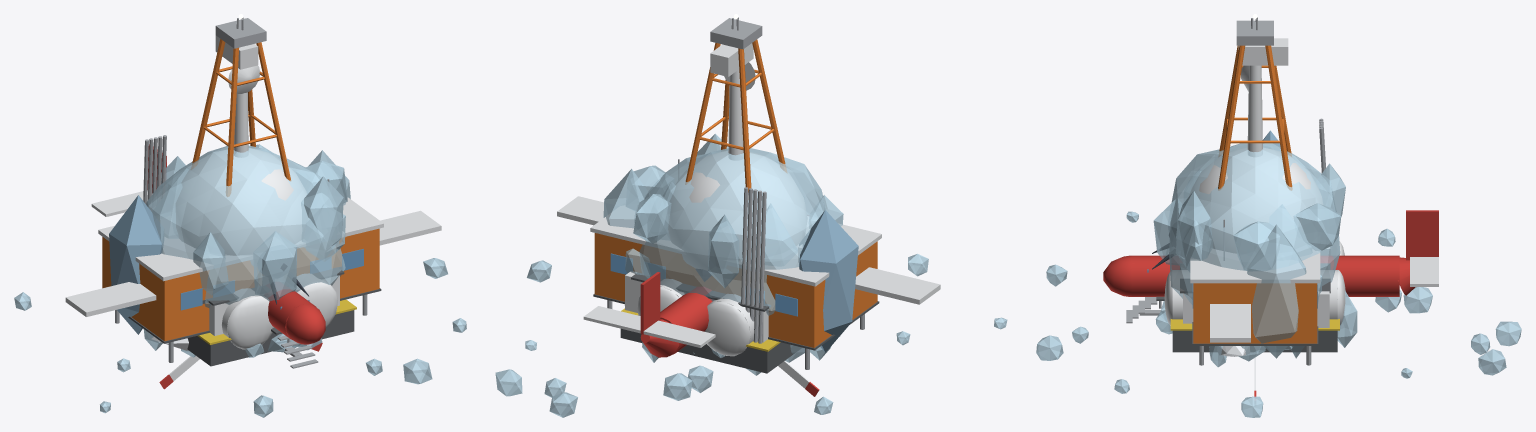
The model's file is polar.glb.
3 renders of one model, left to right at view 1: azimuth 30°, elevation 25°; view 2: azimuth 150°, elevation 25°; view 3: azimuth 270°, elevation 25°, orthographic. The views are drawn at different scales.
Visible parts, largest first — view 1: ice_block, polar_module, polar_dome, polar_drill, polar_plane, ice_ridge, polar_tank, ice_block_broken, polar_turbine, polar_mast, polar_blades; view 2: ice_block, polar_module, polar_drill, polar_dome, polar_plane, ice_ridge, ice_block_broken, polar_tank, polar_turbine; view 3: ice_block, polar_module, polar_plane, polar_dome, polar_drill, ice_block_broken, ice_ridge, polar_turbine, polar_tank.
Boxes of the visible parts, x1,y1,x2,y2 form: ice_block: (146,144,347,308); polar_module: (98,179,383,368); polar_dome: (176,148,344,335); polar_drill: (143,18,356,366); polar_plane: (65,144,441,356); ice_ridge: (109,150,350,350); polar_tank: (222,273,337,349); ice_block_broken: (14,258,466,417); polar_turbine: (215,35,258,157); polar_mast: (228,14,259,93); polar_blades: (159,343,322,389); ice_block: (624,133,843,315); polar_module: (590,159,881,369); polar_drill: (620,18,801,373); polar_dome: (631,151,807,342); polar_plane: (557,196,940,357); ice_ridge: (603,169,858,352); ice_block_broken: (495,253,1007,417); polar_tank: (637,279,754,356); polar_turbine: (710,43,753,160); ice_block: (1153,143,1345,358); polar_module: (1126,219,1320,365); polar_plane: (1103,210,1438,342); polar_dome: (1180,148,1330,323); polar_drill: (1170,20,1339,352); ice_block_broken: (1036,211,1521,417); ice_ridge: (1217,130,1312,358); polar_turbine: (1238,38,1288,156); polar_tank: (1164,241,1345,325).
Bounding box in the file's own units: 22.59 × 18.97 × 23.53.
